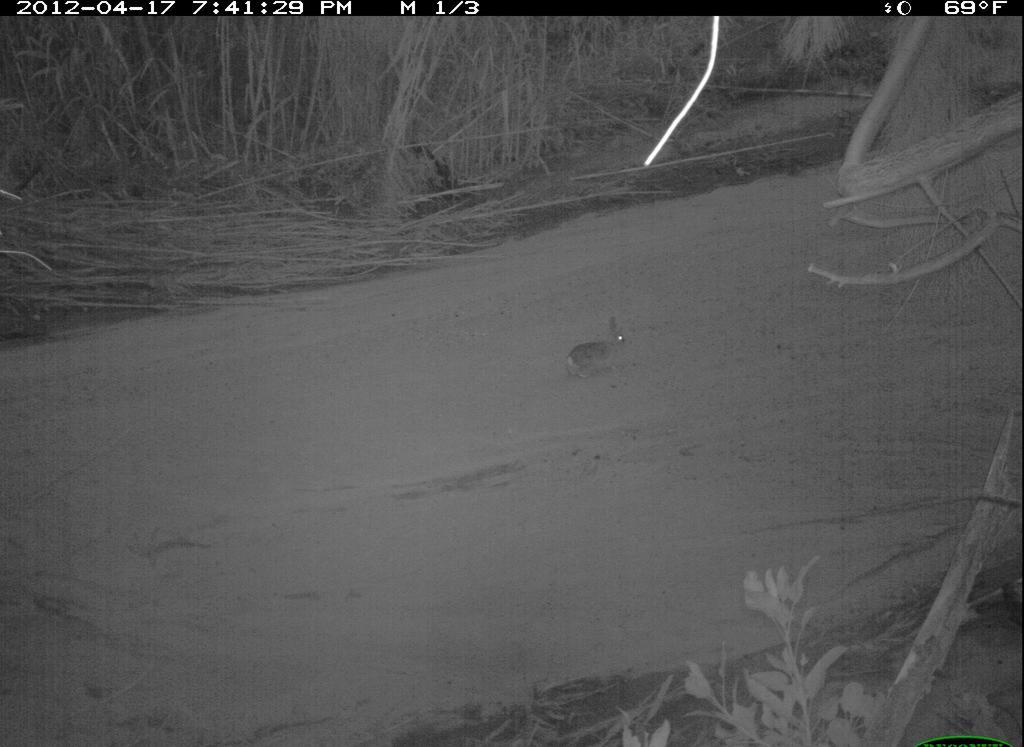rabbit: (557, 314, 638, 385)
